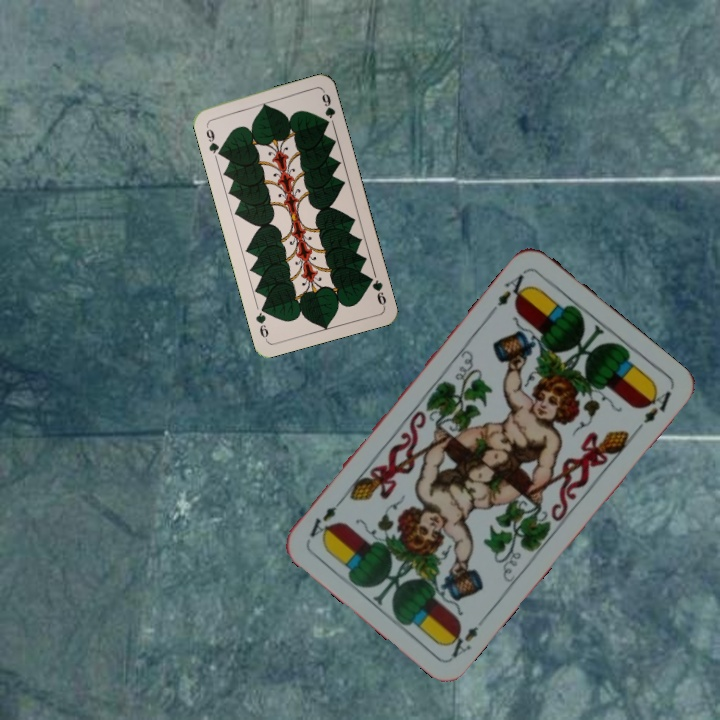EA: (442, 611, 490, 661), (485, 270, 532, 317)
G9: (363, 272, 389, 309), (202, 120, 225, 159)
